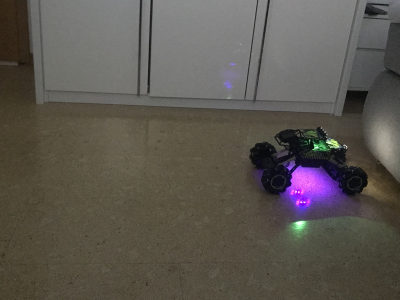remote control car: (248, 122, 369, 197)
